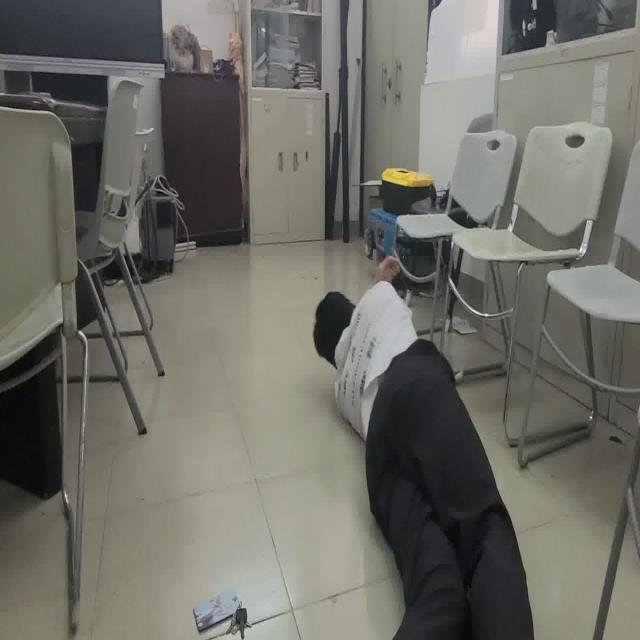Fall-Detected: (309, 252, 535, 640)
